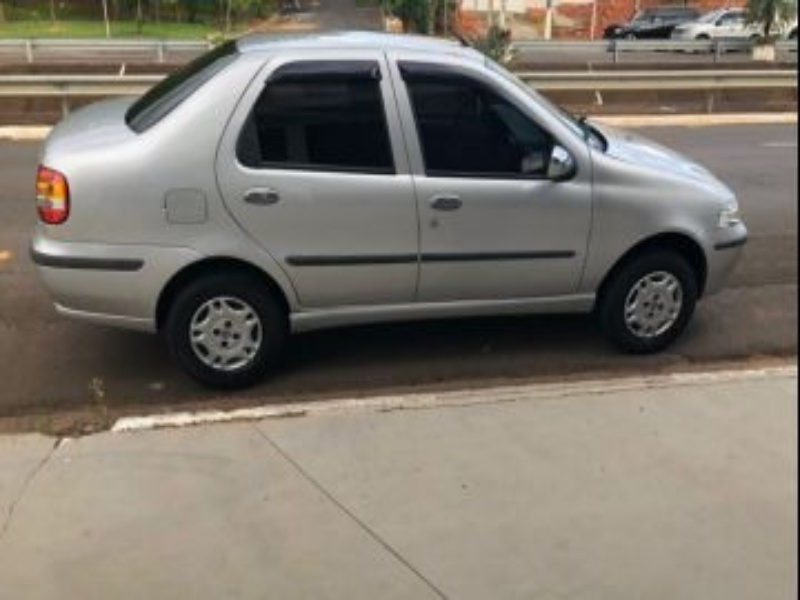Fiat Siena 2001-06: (47, 23, 755, 385), (33, 38, 378, 407)
